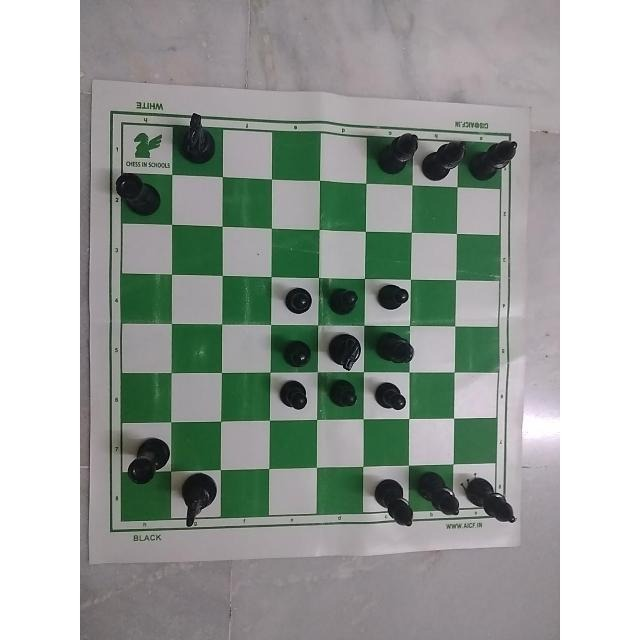black-bishop: (466, 469, 520, 530), (475, 122, 526, 185), (420, 128, 470, 183), (418, 467, 460, 529), (374, 123, 421, 174), (369, 476, 412, 529), (371, 327, 417, 366)
black-knight: (178, 466, 223, 534), (172, 106, 216, 162), (319, 327, 361, 373)
black-pawn: (272, 377, 316, 418), (279, 276, 317, 323), (371, 373, 411, 415), (327, 277, 369, 316), (326, 377, 364, 418), (272, 334, 315, 367), (373, 279, 415, 310)
black-rook: (118, 428, 178, 492), (105, 170, 160, 217)
